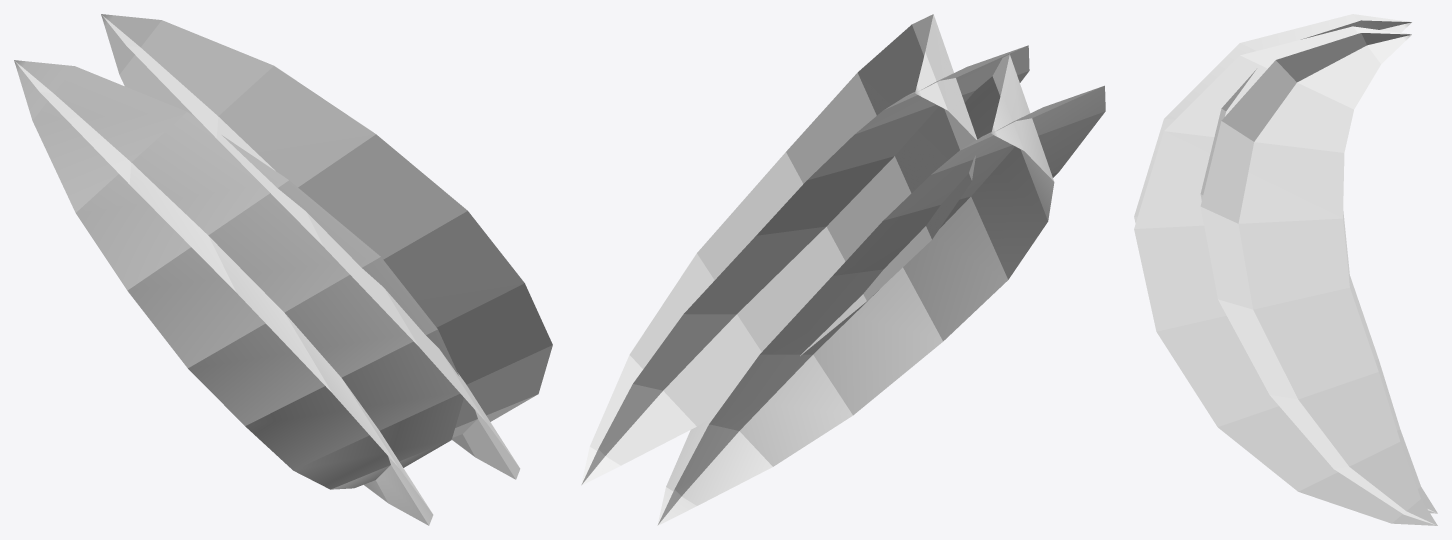
Rendered from fx_fbx_NPC_1056.FBX.
3 views of the same model, side by side, from view 1: azimuth 30°, elevation 25°; view 2: azimuth 150°, elevation 25°; view 3: azimuth 270°, elevation 25° (orthographic). The views are drawn at different scales.
Parts seen in each view (by area): view 1: 2009_skill3_L_trail; view 2: 2009_skill3_L_trail; view 3: 2009_skill3_L_trail.
Part boxes in pixels (<box>): 2009_skill3_L_trail: <box>14,14,552,525</box>; 2009_skill3_L_trail: <box>581,14,1105,525</box>; 2009_skill3_L_trail: <box>1134,14,1437,525</box>.
Size of the model in its own units: 510 by 393 by 564.
Materials: 1 (1 with a texture image).
